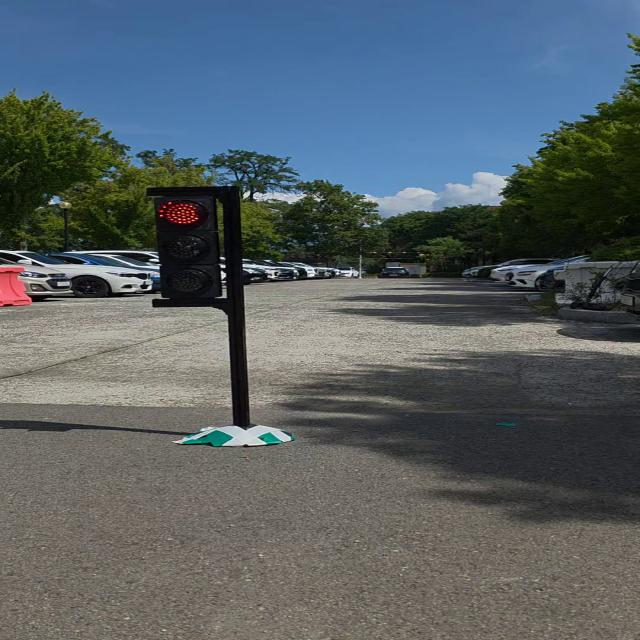red: (150, 189, 227, 305)
